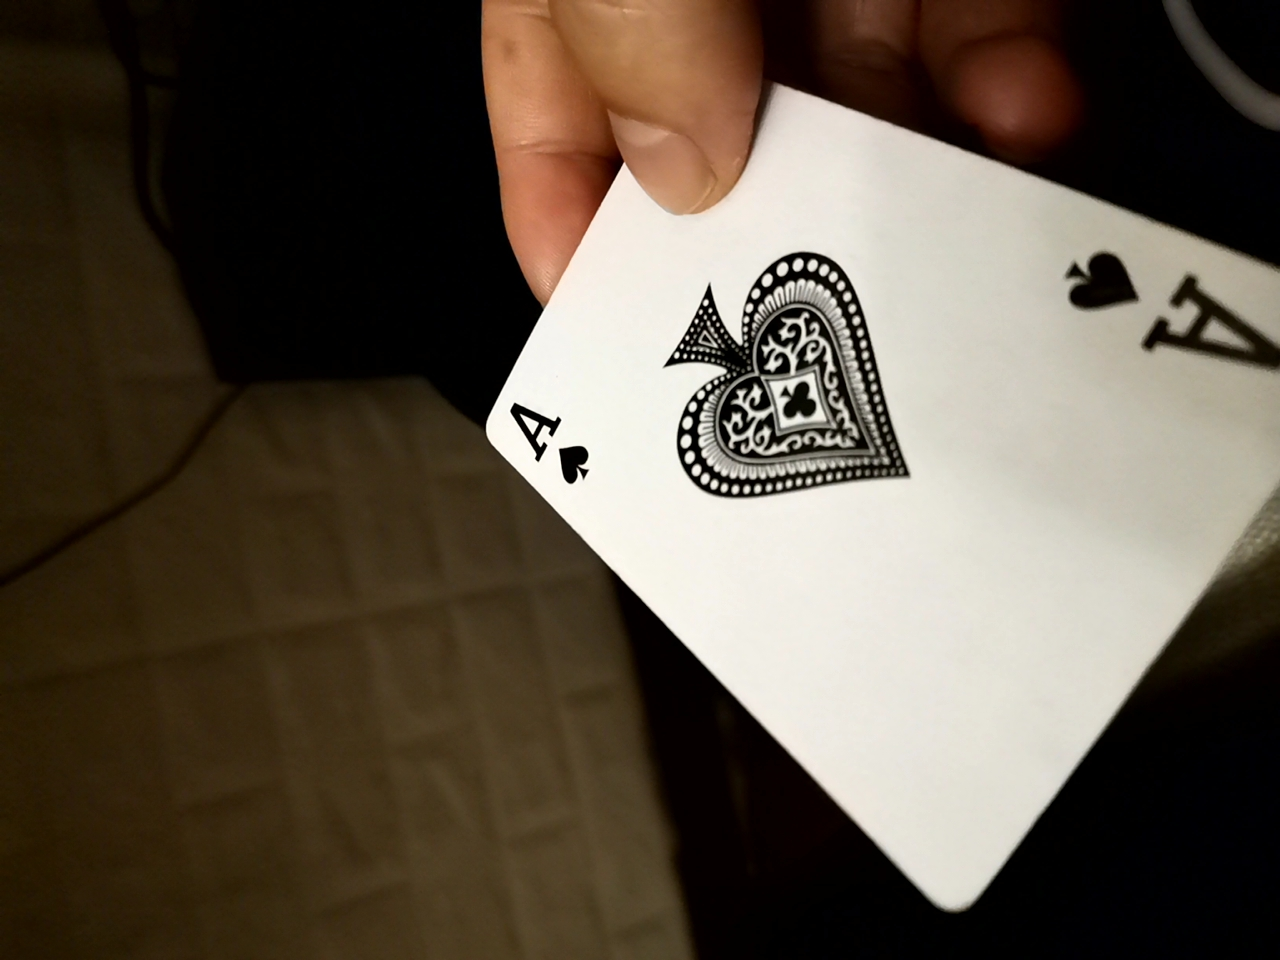ht a: (445, 78, 1240, 905)
